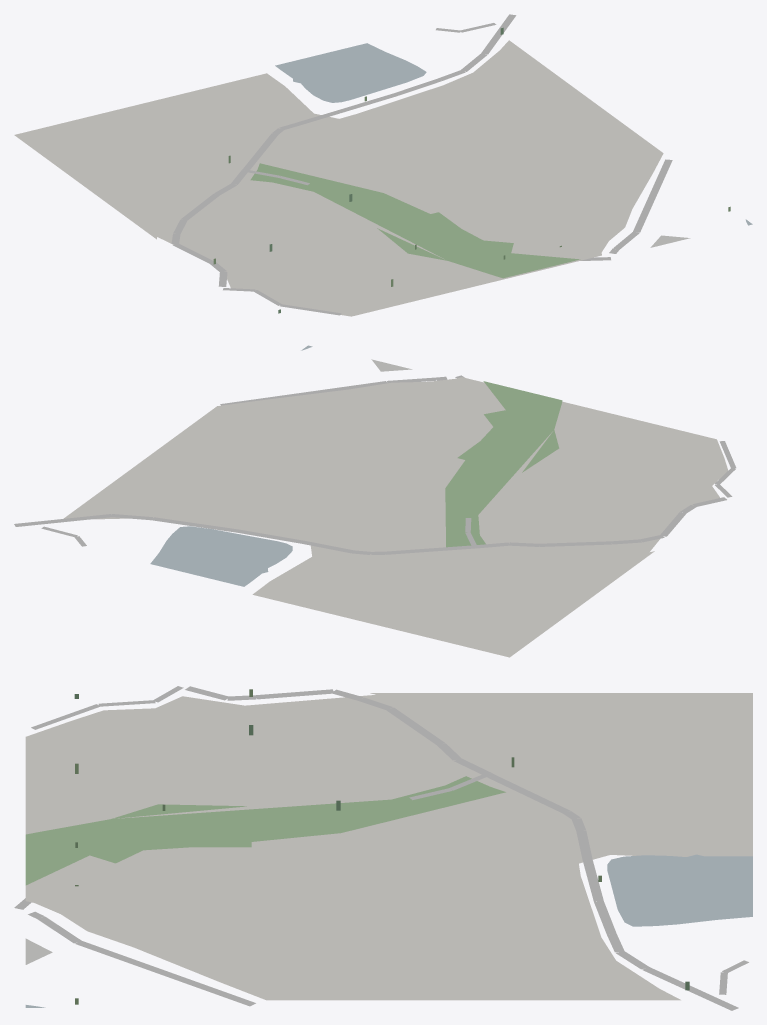
3 views of the same model, one above another, from view 1: azimuth 30°, elevation 25°; view 2: azimuth 150°, elevation 25°; view 3: azimuth 270°, elevation 25° (orthographic). The views are drawn at different scales.
Size of the model in its own units: 533 by 19.9 by 508.
